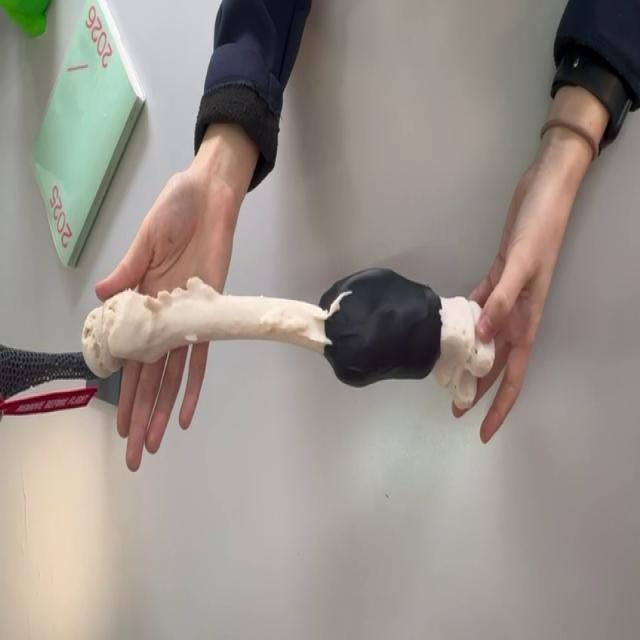bones: (82, 270, 495, 409)
